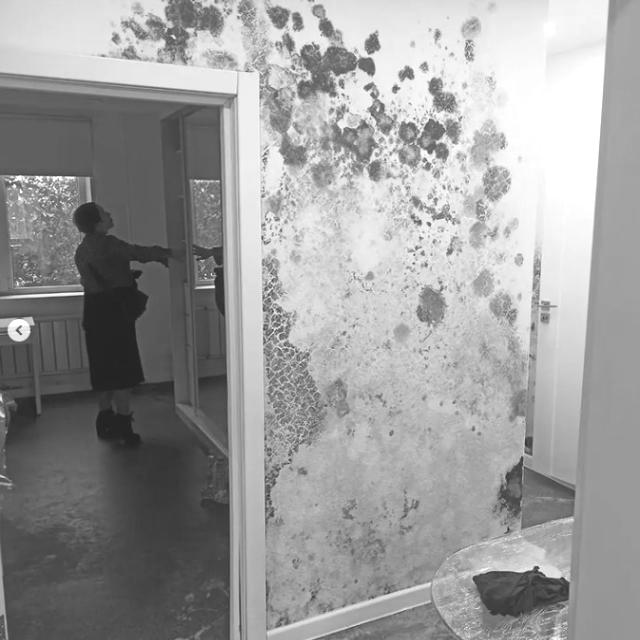stain marks: (260, 63, 526, 530), (90, 0, 484, 65), (266, 522, 429, 593)
